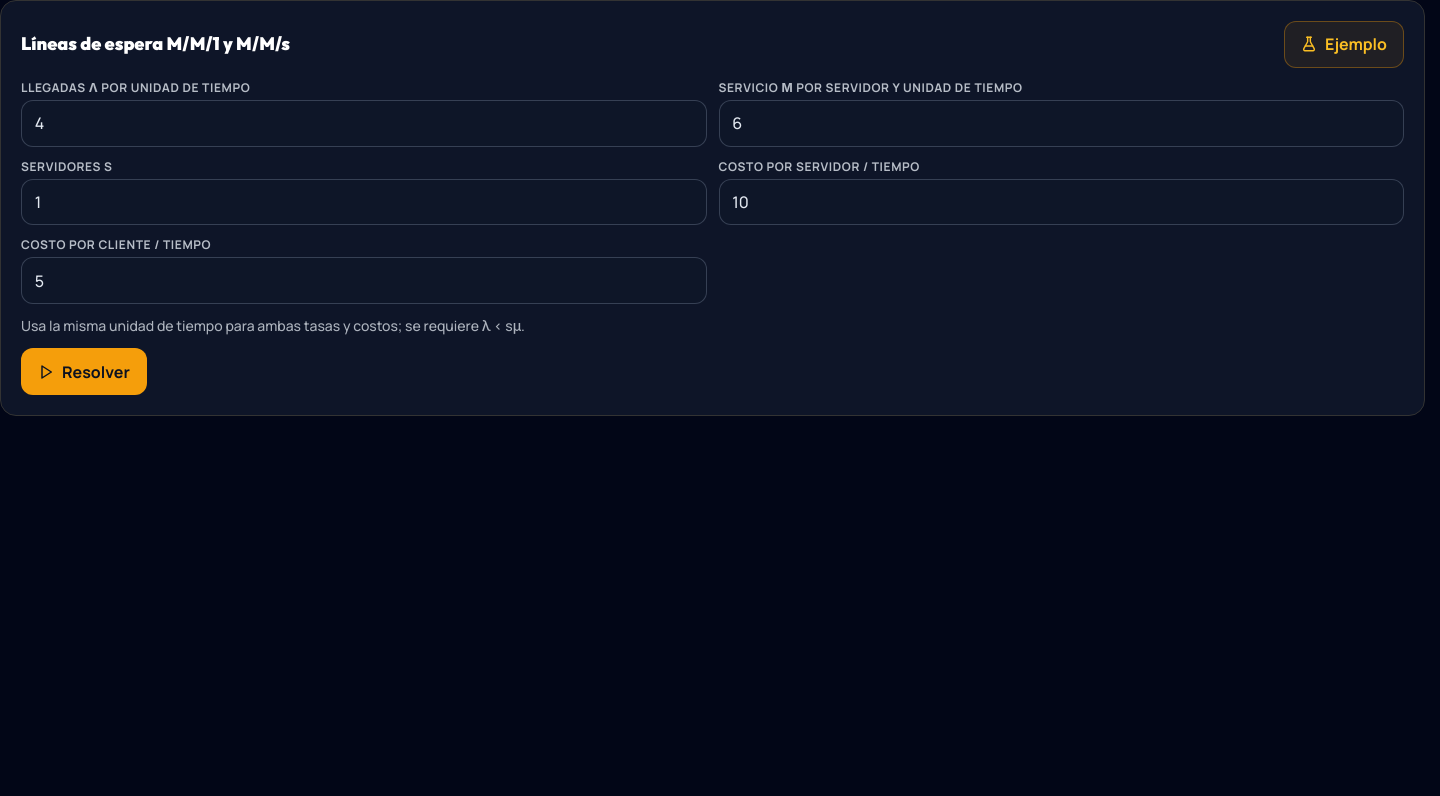
Test: Colas resuelve el ejemplo inicial sin romper su vista
Click the button "Resolver": click(84, 372) [21,348,147,395]
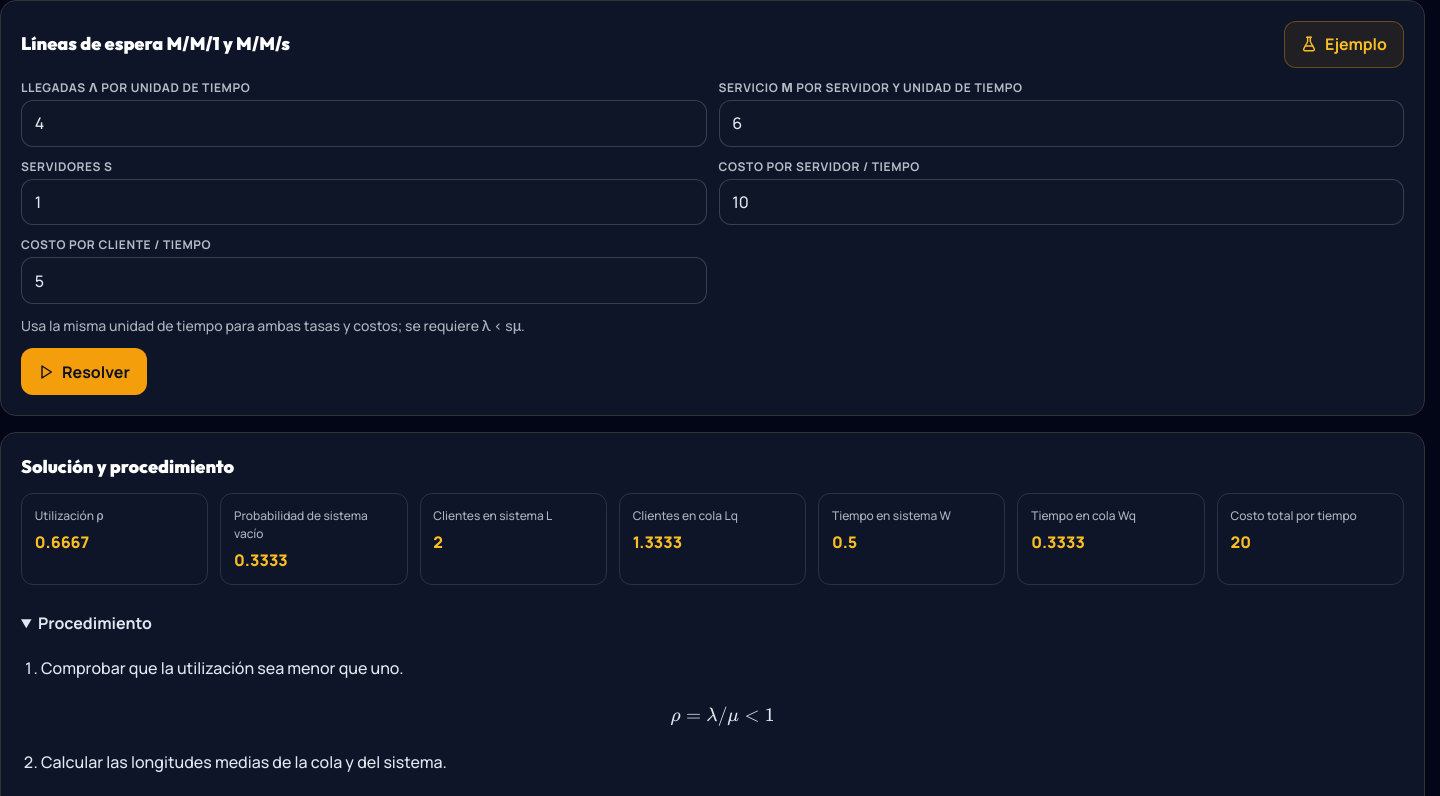
Expected: the element that starts with "Utilización ρ" is shown, [21,493,1404,585]
Expected: the text "0.6667" is shown, [35,530,89,552]
